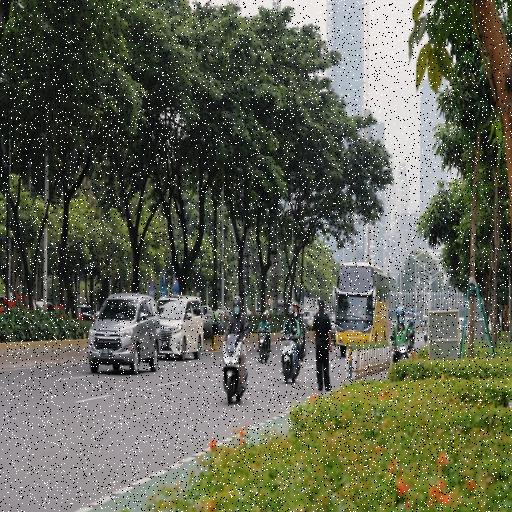Helmet: (234, 296, 244, 317), (290, 300, 300, 318), (396, 308, 406, 324), (259, 309, 269, 322), (288, 307, 295, 321)
Motor: (219, 334, 246, 406), (280, 337, 300, 383), (255, 330, 267, 364), (395, 339, 409, 365)
